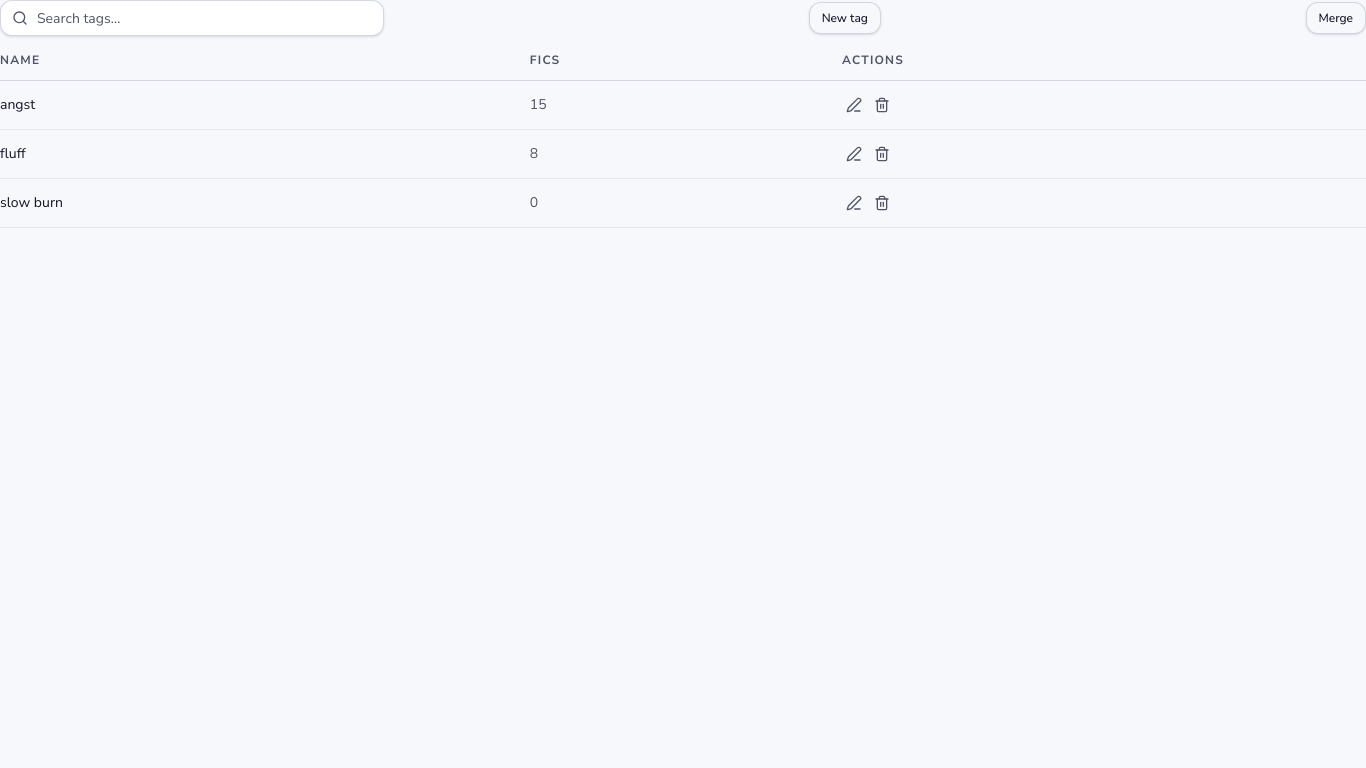
Test case: TagsSection › opens merge dialog
Expected: the text "angst" is shown, top-left (0, 95), bottom-right (35, 114)
Click the button "Merge" at [1336, 18], box top-left (1306, 2), bottom-right (1365, 34)
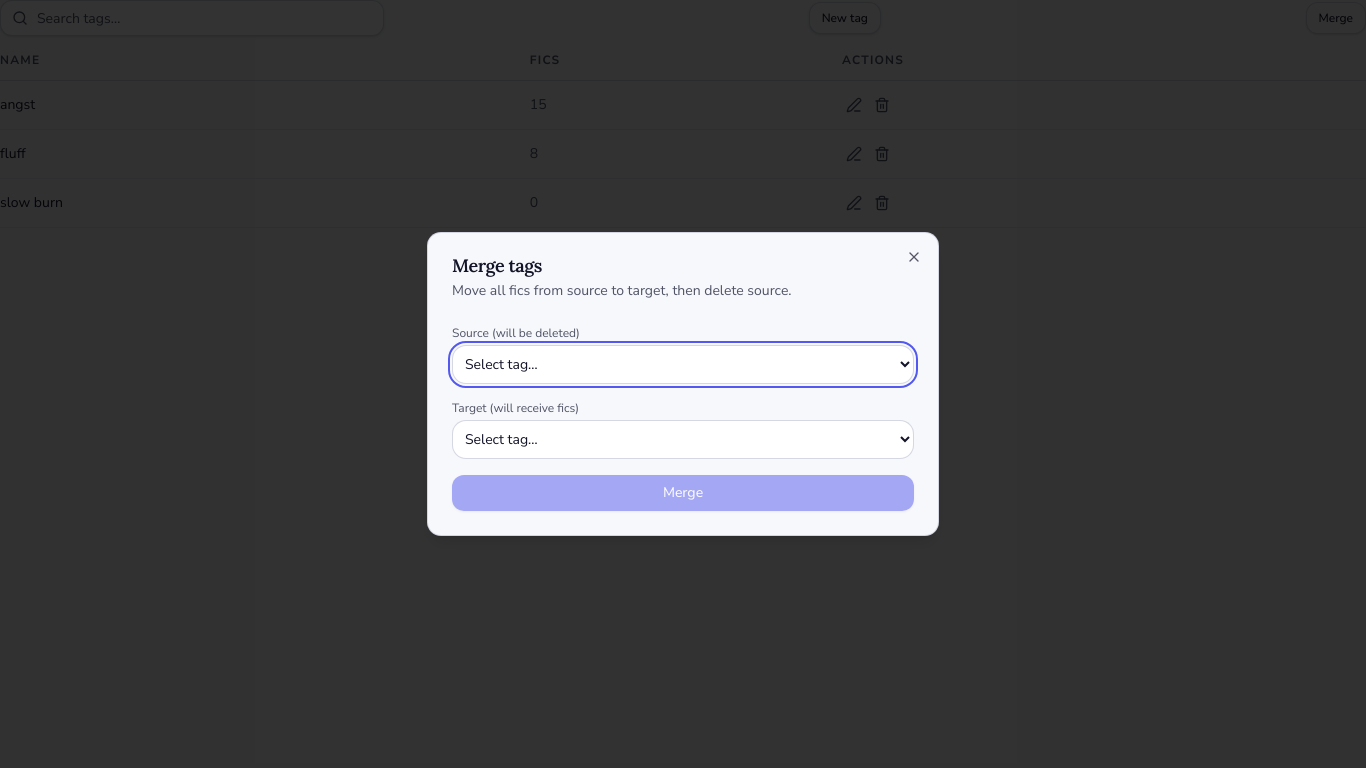
Expected: the heading "Merge tags" is shown, top-left (452, 254), bottom-right (542, 277)
Expected: the text "Source (will be deleted)" is shown, top-left (452, 325), bottom-right (580, 341)
Expected: the text "Target (will receive fics)" is shown, top-left (452, 400), bottom-right (579, 416)
